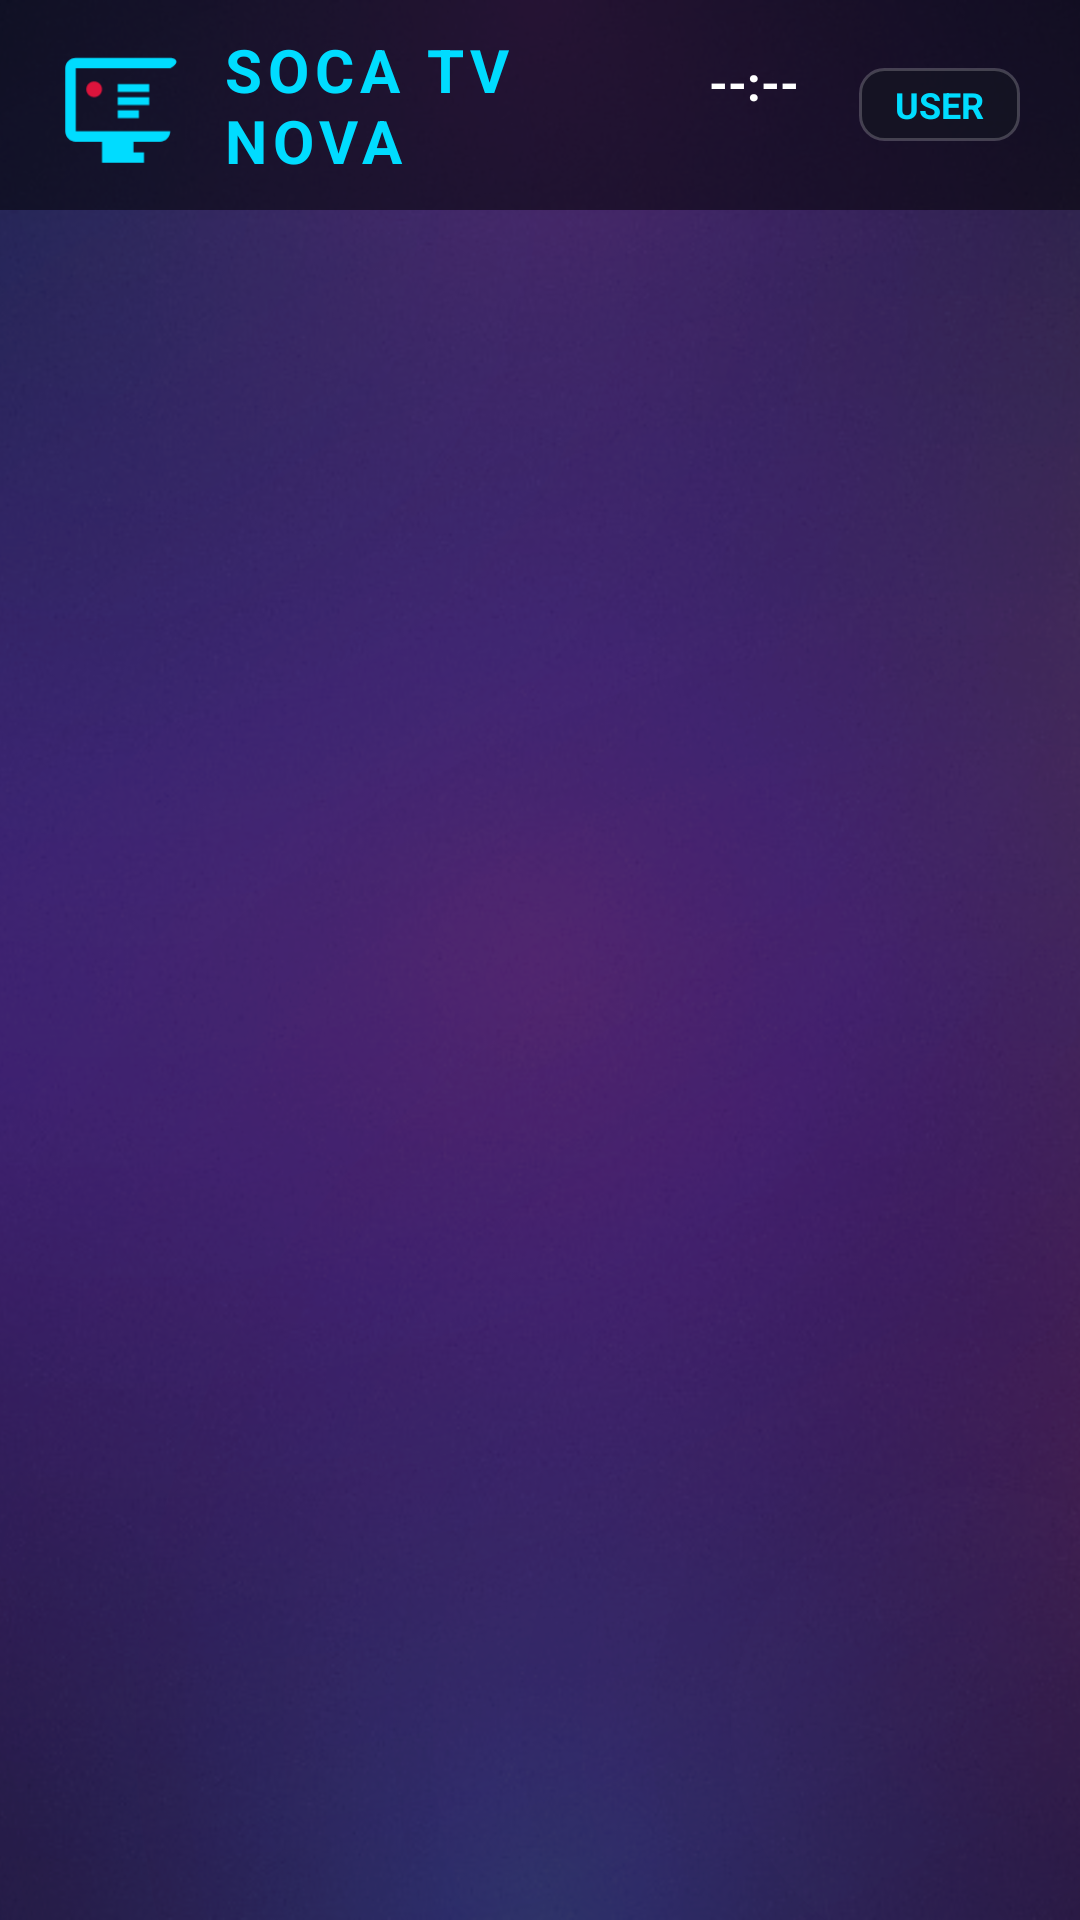

Screen size 1080×1920. Icon name, then its box in pixels as (x1, y1, x2, y2):
live: (65, 57, 177, 163)
